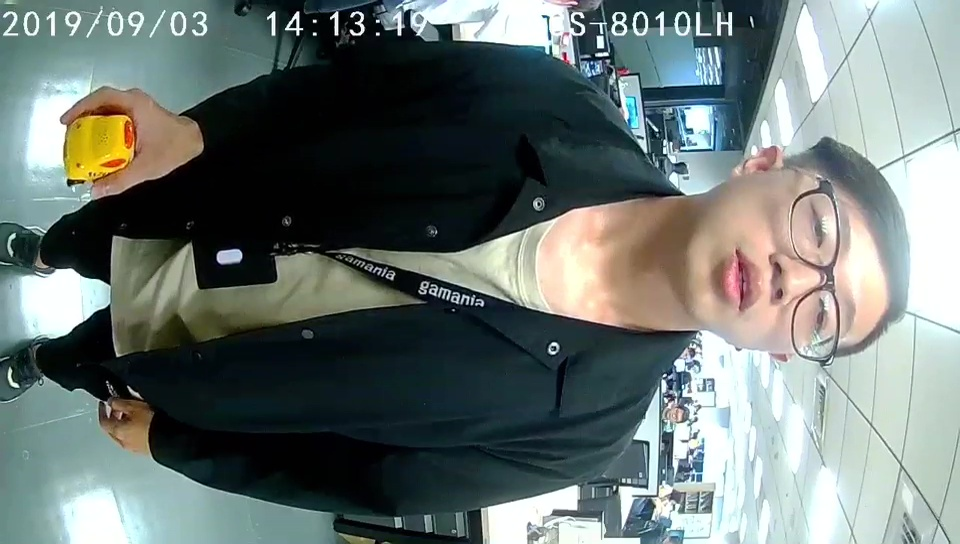car: (63, 112, 134, 188)
